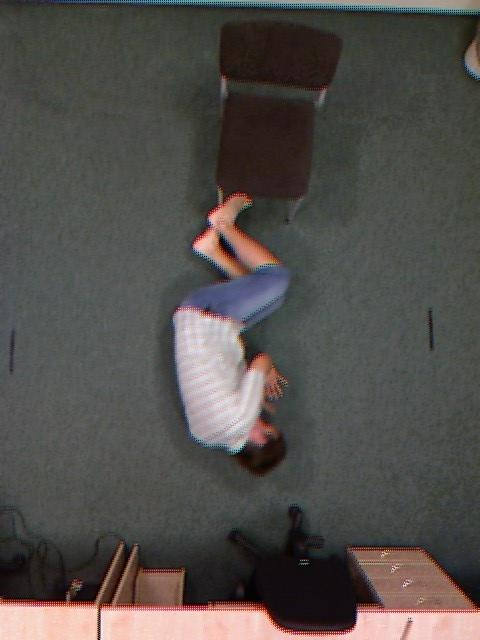fall: (118, 229, 362, 427)
